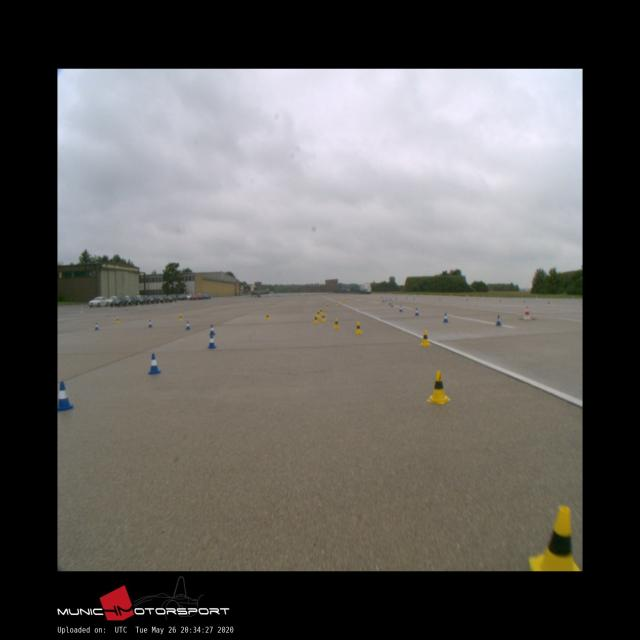blue_cone: (58, 381, 74, 411), (148, 354, 161, 373), (207, 334, 216, 348), (495, 314, 502, 326), (209, 324, 215, 336), (443, 313, 449, 322), (185, 321, 191, 329), (148, 320, 153, 327), (95, 322, 99, 330), (415, 308, 419, 316), (399, 306, 403, 312)
yellow_cone: (529, 506, 580, 571), (428, 371, 450, 404), (419, 329, 430, 345), (354, 321, 362, 335), (334, 317, 339, 328), (314, 315, 319, 323), (321, 313, 326, 321), (266, 313, 270, 320), (179, 314, 182, 321), (116, 317, 119, 323)
